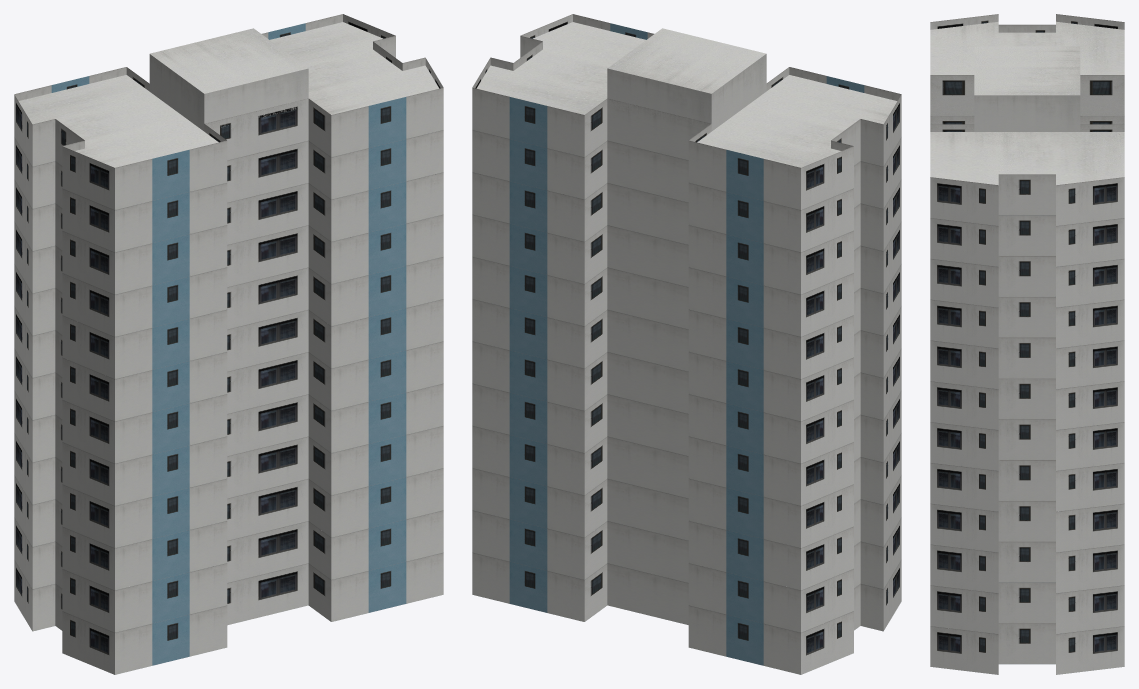
The model's file is Building-02.fbx.
3 views of the same model, side by side, from view 1: azimuth 30°, elevation 25°; view 2: azimuth 150°, elevation 25°; view 3: azimuth 270°, elevation 25° (orthographic). The views are drawn at different scales.
Parts seen in each view (by area): view 1: Building-02; view 2: Building-02; view 3: Building-02.
Part boxes in pixels (x1=…): Building-02: x1=14, y1=14, x2=443, y2=674; Building-02: x1=472, y1=14, x2=901, y2=674; Building-02: x1=930, y1=14, x2=1124, y2=674.
Bounding box in the file's own units: 4578 × 6464 × 2195.
